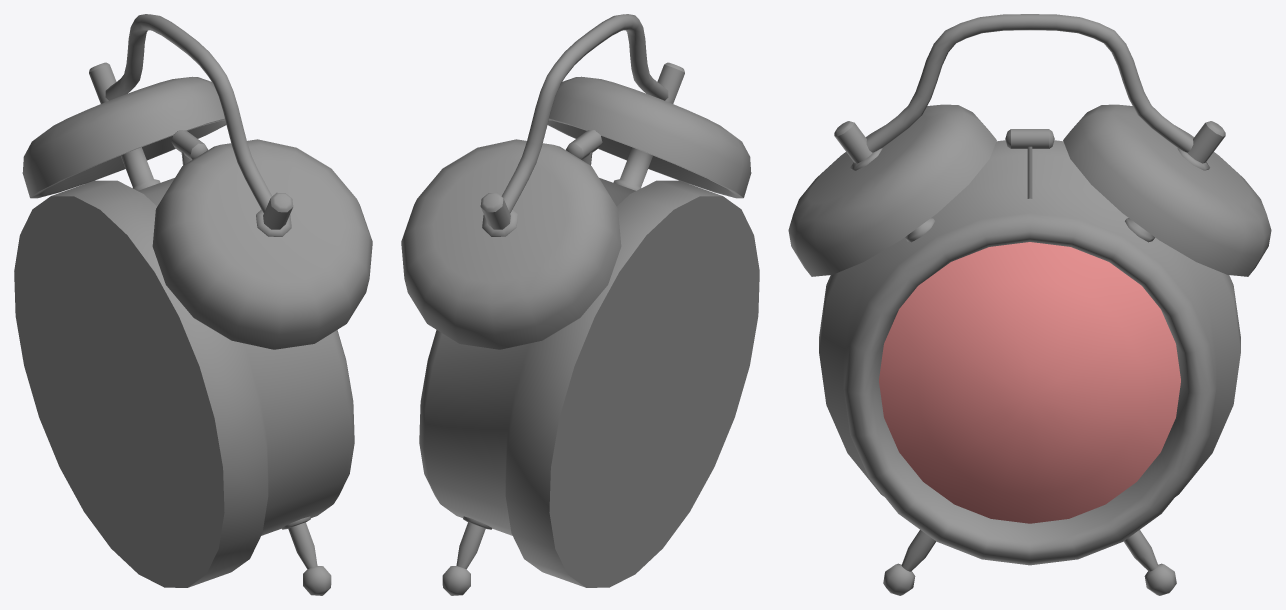
Rendered from Hat_AlarmClock_VP_SM.gltf.
3 renders of one model, left to right at view 1: azimuth 30°, elevation 25°; view 2: azimuth 150°, elevation 25°; view 3: azimuth 270°, elevation 25°, orthographic.
Visible parts, largest first — view 1: Hat_AlarmClock_VP_SM; view 2: Hat_AlarmClock_VP_SM; view 3: Hat_AlarmClock_VP_SM.
Boxes of the visible parts, bbox=[...] form: Hat_AlarmClock_VP_SM: bbox=[14, 14, 372, 595]; Hat_AlarmClock_VP_SM: bbox=[401, 14, 759, 595]; Hat_AlarmClock_VP_SM: bbox=[788, 14, 1271, 595].
Bounding box in the file's own units: 0.0995 × 0.2645 × 0.2129.
